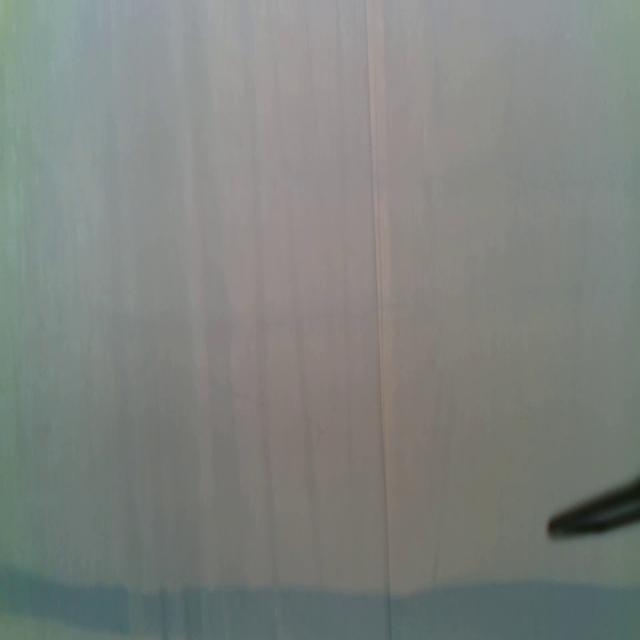color bleeding: (0, 556, 640, 640)
crease: (365, 1, 393, 640)
